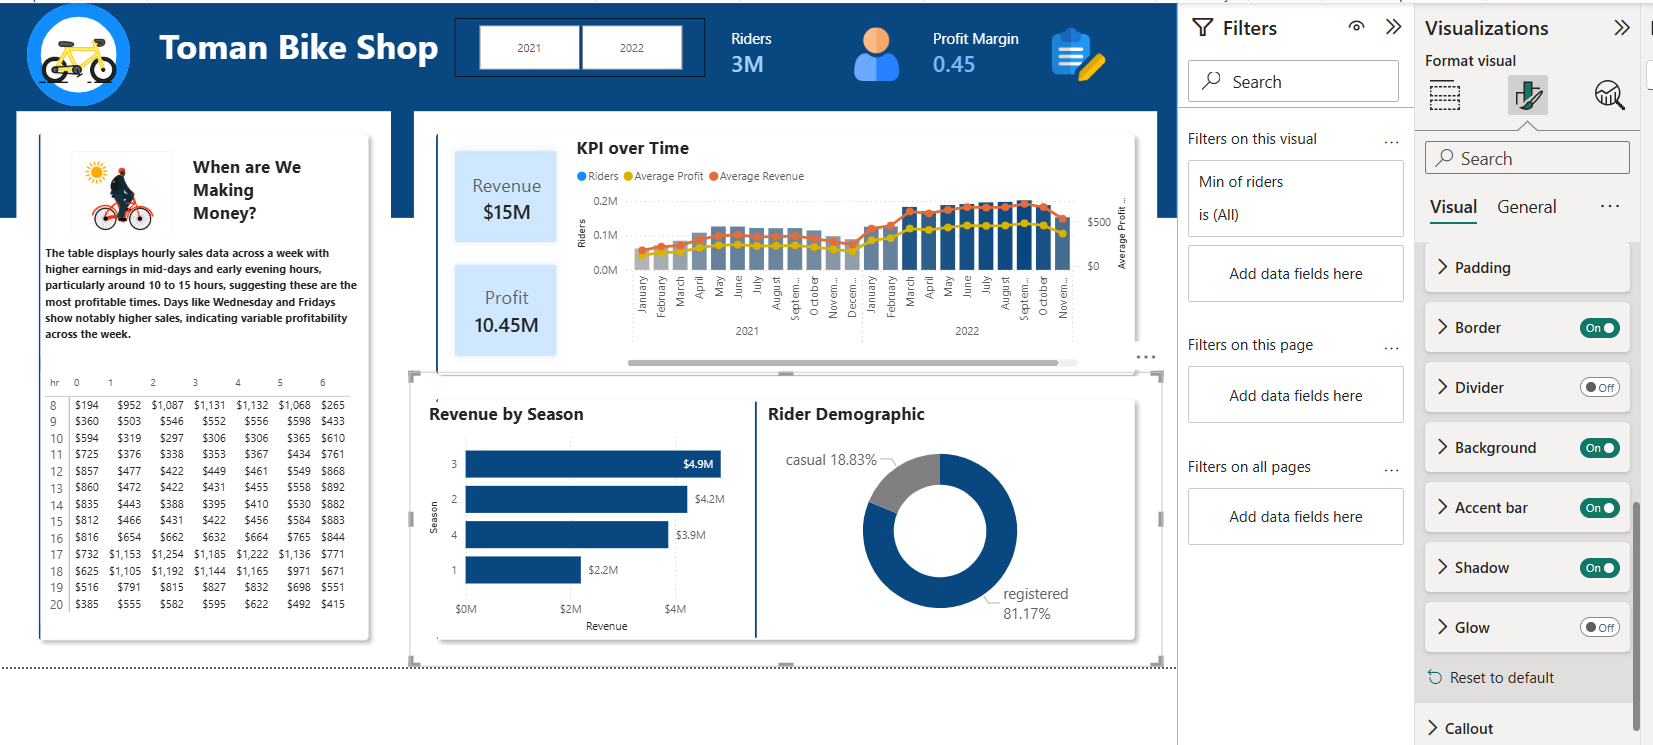

The dashboard page shown, as its layout file describes it:
{"tool":"powerbi","page":{"name":"Page 1","canvas":[1280,720],"ordinal":0},"visuals":[{"type":"shape","box":[0,0,1280.3,233.3],"z":0},{"type":"cardVisual","fields":{"Data":["Min(Query1.riders)"]},"box":[16,112,416,608],"z":1000},{"type":"cardVisual","fields":{"Data":["Min(Query1.riders)"]},"box":[448,112,816,320],"z":2000},{"type":"cardVisual","fields":{"Data":["Min(Query1.riders)"]},"box":[448,400,816,320],"z":3000},{"type":"cardVisual","fields":{"Data":["Min(Query1.riders)"]},"box":[64,144,144,128],"z":4000},{"type":"pivotTable","fields":{"Values":["Avg(Query1.revenue)"],"Columns":["Query1.weekday"],"Rows":["Query1.hr"]},"box":[48,400,352,272],"z":5000},{"type":"textbox","box":[208,160,144,96],"z":6000},{"type":"textbox","box":[48,256,352,128],"z":7000},{"type":"lineClusteredColumnComboChart","title":"KPI over Time","fields":{"Category":["Query1.dteday.Variation.Date Hierarchy.Year","Query1.dteday.Variation.Date Hierarchy.Month","Query1.dteday.Variation.Date Hierarchy.Day"],"Y":["Sum(Query1.riders)"],"Y2":["Avg(Query1.profit)","Avg(Query1.revenue)"]},"box":[624,144,608,256],"z":8000},{"type":"clusteredBarChart","title":"Revenue by Season","fields":{"Category":["Query1.season"],"Y":["Sum(Query1.revenue)"]},"box":[464,432,368,256],"z":9000},{"type":"donutChart","title":"Rider Demographic","fields":{"Category":["Query1.rider_type"],"Y":["Sum(Query1.riders)"]},"box":[832,432,384,256],"z":10000},{"type":"shape","box":[672,432,304,256],"z":11000},{"type":"cardVisual","title":"KPI over Time","fields":{"Data":["Sum(Query1.revenue)","Sum(Query1.profit)"]},"box":[480,144,144,256],"z":12000},{"type":"cardVisual","fields":{"Data":["Sum(Query1.riders)","Query1.Profit Margin"]},"box":[768,0,464,112],"z":13000},{"type":"shape","box":[32,0,112,112],"z":14000},{"type":"image","box":[16,16,144,96],"z":15000},{"type":"textbox","box":[144,16,368,64],"z":16000},{"type":"slicer","fields":{"Values":["Query1.Years"]},"box":[496,16,272,64],"z":17000}]}

Visuals, with their boxes on the page's 1280x720 design canvas (x1, y1, x2, y2). These are canvas units, not pixel positions in the 1653x745 screenshot, which may show the page scaled, cropped or inside an application window:
shape: 0 0 1280 233
cardVisual - Min(Query1.riders): 16 112 432 720
cardVisual - Min(Query1.riders): 448 112 1264 432
cardVisual - Min(Query1.riders): 448 400 1264 720
cardVisual - Min(Query1.riders): 64 144 208 272
pivotTable - Avg(Query1.revenue) x Query1.weekday: 48 400 400 672
textbox: 208 160 352 256
textbox: 48 256 400 384
"KPI over Time" lineClusteredColumnComboChart: 624 144 1232 400
"Revenue by Season" clusteredBarChart: 464 432 832 688
"Rider Demographic" donutChart: 832 432 1216 688
shape: 672 432 976 688
"KPI over Time" cardVisual: 480 144 624 400
cardVisual - Sum(Query1.riders) x Query1.Profit Margin: 768 0 1232 112
shape: 32 0 144 112
image: 16 16 160 112
textbox: 144 16 512 80
slicer - Query1.Years: 496 16 768 80
